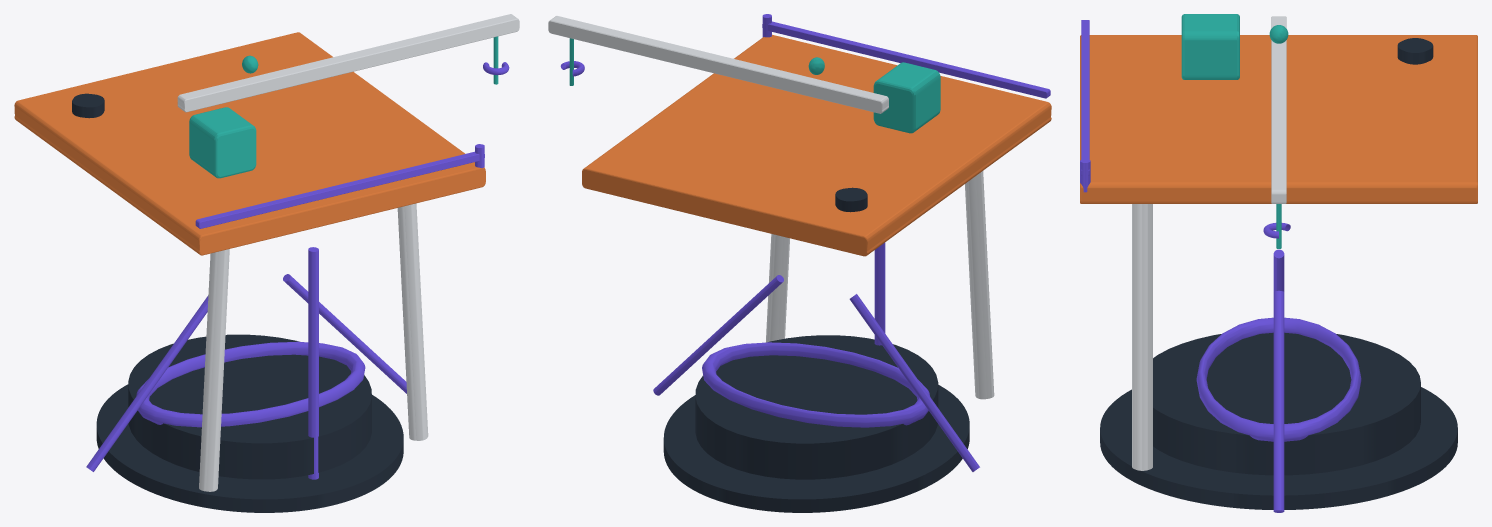
The model's file is 0453_机械图鉴_古罗马起重机.glb.
3 views of the same model, side by side, from view 1: azimuth 30°, elevation 25°; view 2: azimuth 150°, elevation 25°; view 3: azimuth 270°, elevation 25° (orthographic). The views are drawn at different scales.
Visible parts, largest first — view 1: card_0453; view 2: card_0453; view 3: card_0453.
Boxes of the visible parts, x1,y1,x2,y2 form: card_0453: (14, 14, 519, 512); card_0453: (548, 14, 1051, 512); card_0453: (1080, 14, 1477, 512).
Size of the model in its own units: 1.13 by 1 by 0.8414.
